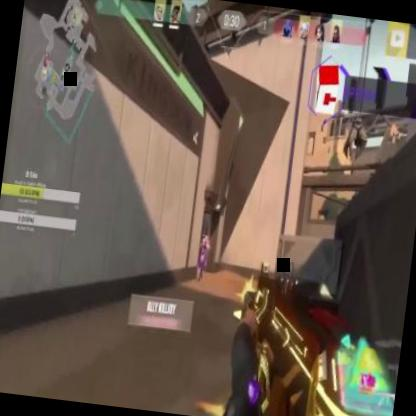enemy: (192, 231, 212, 280)
enemy_head: (203, 233, 209, 242)
